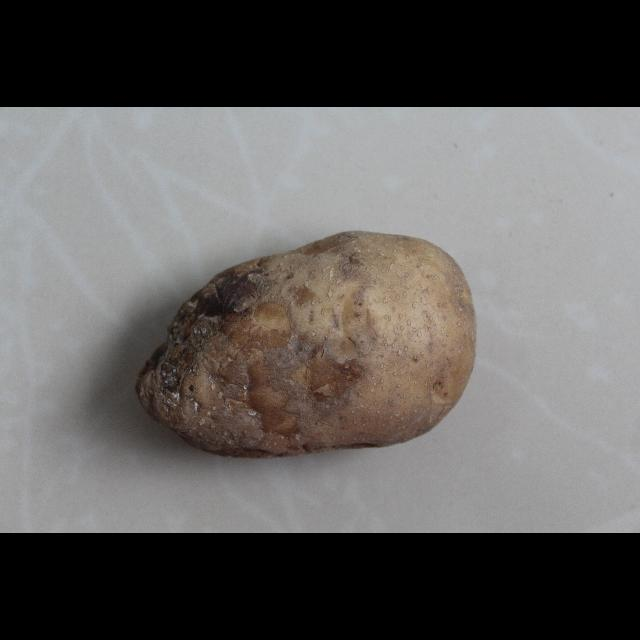Diseased-fungal potato: (133, 228, 477, 462)
